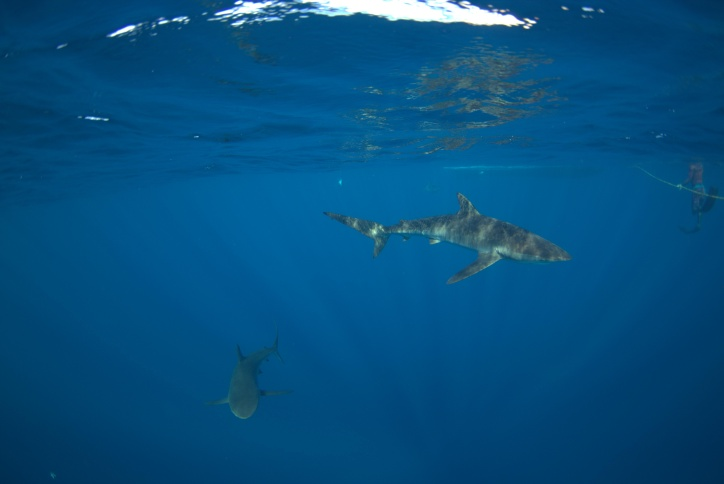Sedoso: (308, 183, 580, 296)
